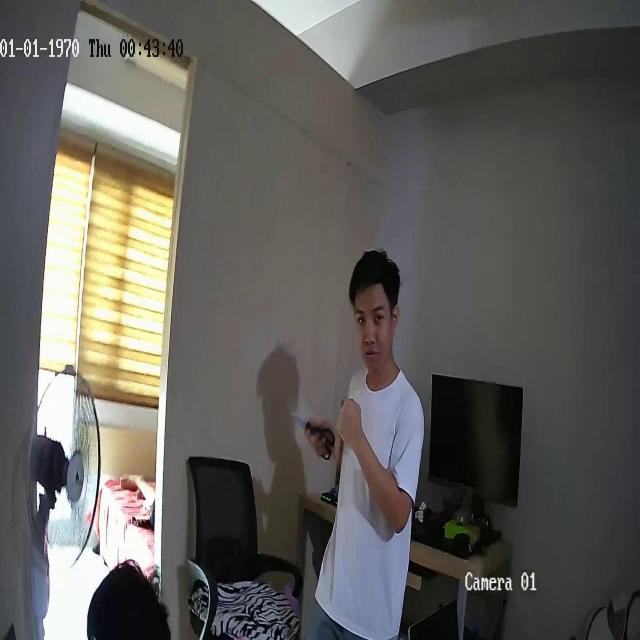scissor: (291, 416, 336, 462)
